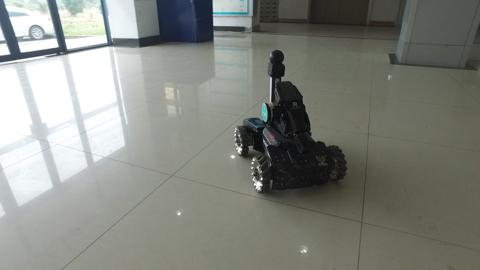car: (1, 4, 55, 43)
chariot: (233, 47, 348, 194)
